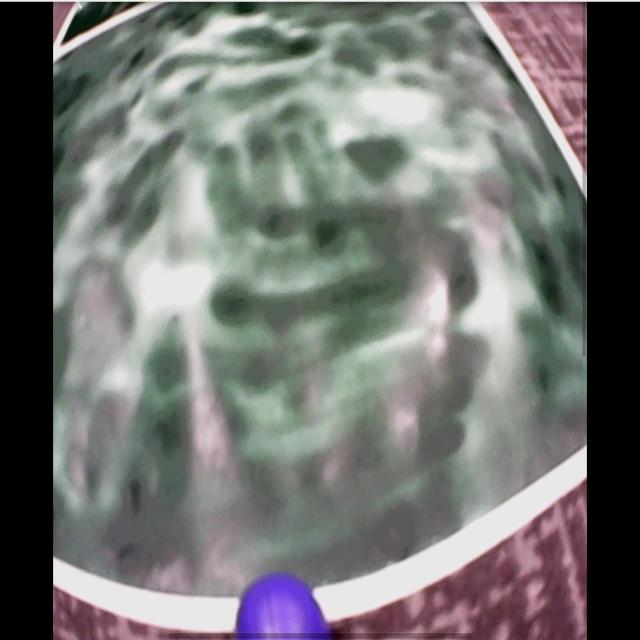ball: (237, 574, 331, 639)
